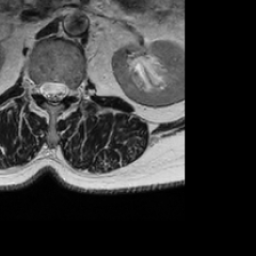CCS_normal: (49, 71, 57, 114)
LFS_normal: (67, 77, 76, 106)
LLS_normal: (57, 73, 67, 105)
RFS_normal: (31, 72, 41, 101)
RLS_normal: (40, 74, 49, 106)
